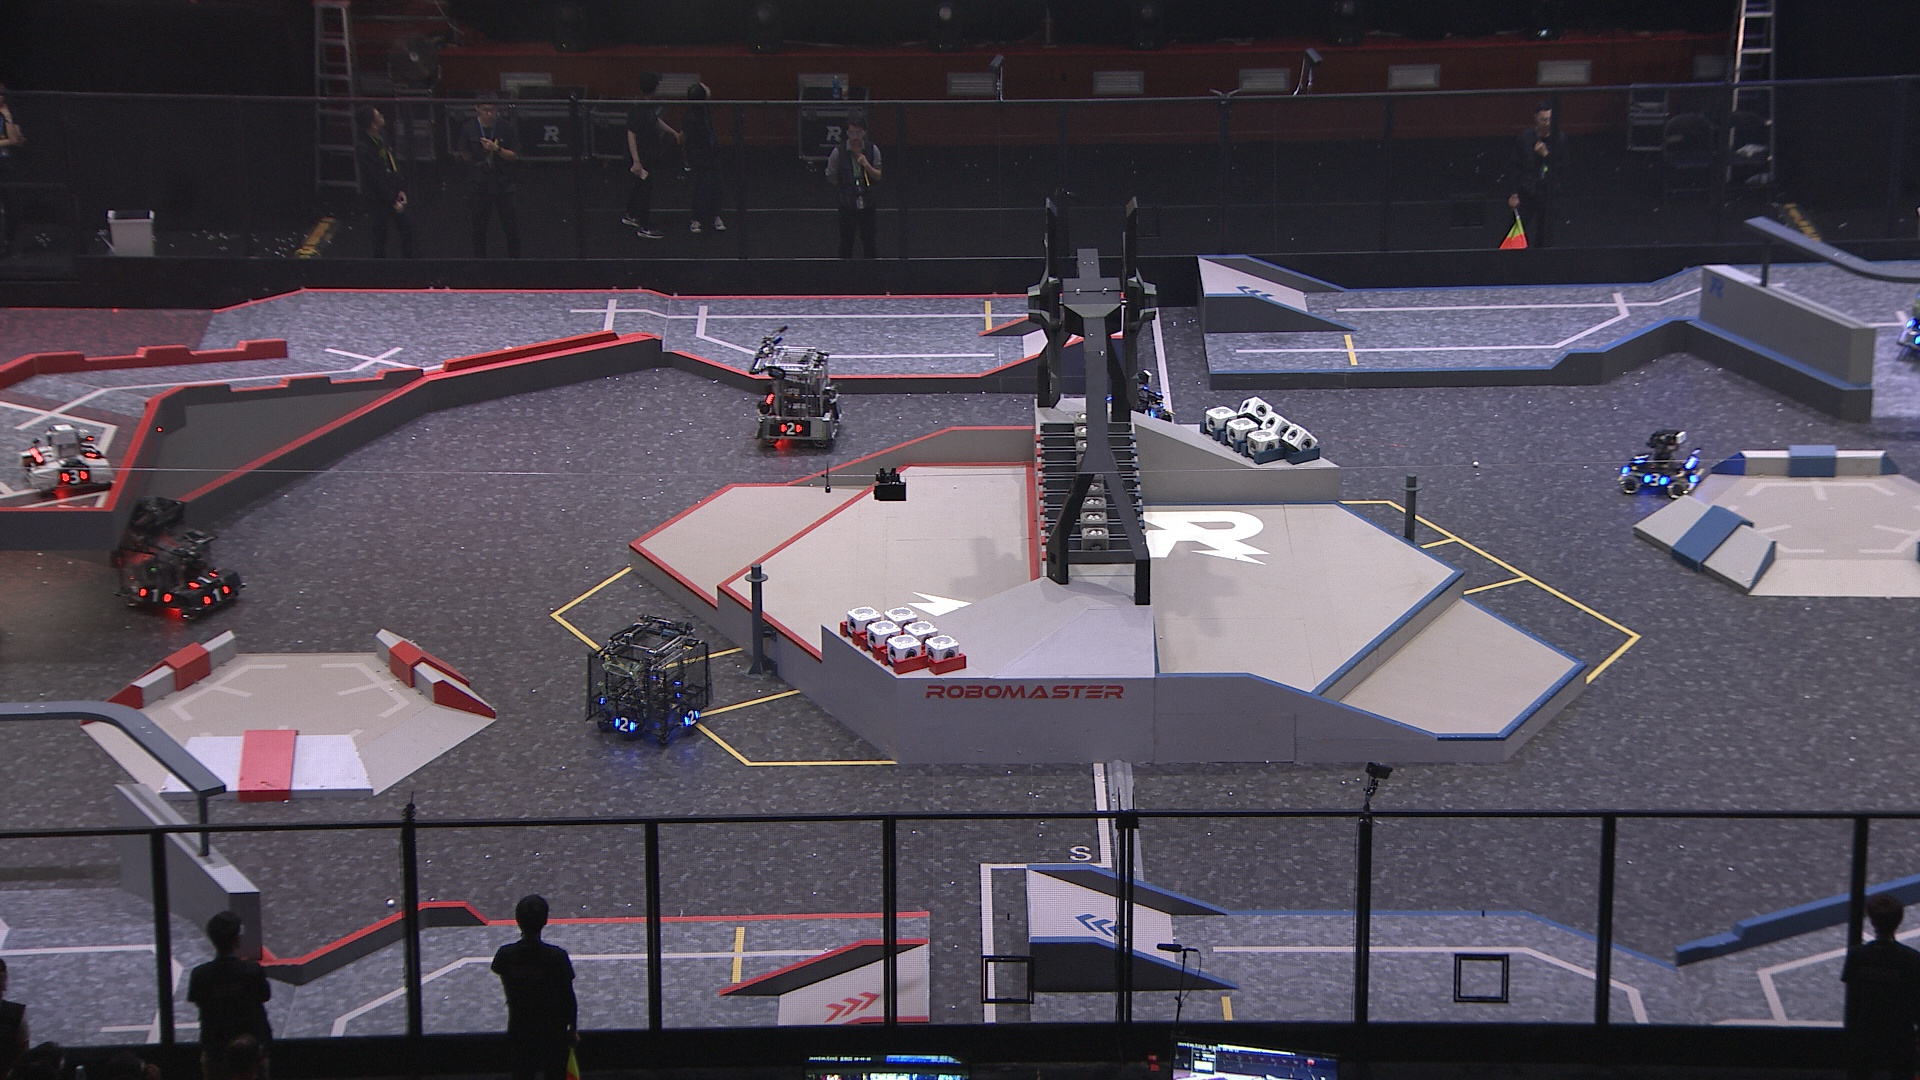armor: (186, 564, 220, 591), (200, 582, 233, 607), (138, 584, 173, 607), (611, 712, 638, 736), (59, 465, 88, 488), (775, 418, 803, 439), (78, 438, 102, 460), (1640, 472, 1671, 489), (21, 455, 41, 479), (680, 705, 702, 727), (1684, 465, 1702, 485), (1633, 447, 1651, 467), (1139, 405, 1158, 423)
car: (113, 491, 244, 626), (584, 617, 712, 754), (749, 342, 847, 452), (17, 419, 115, 500), (1611, 425, 1708, 498), (1097, 367, 1182, 436), (1902, 253, 1920, 356)
